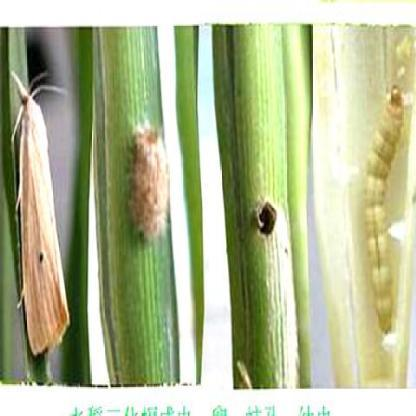stem-borer: (8, 66, 72, 358)
